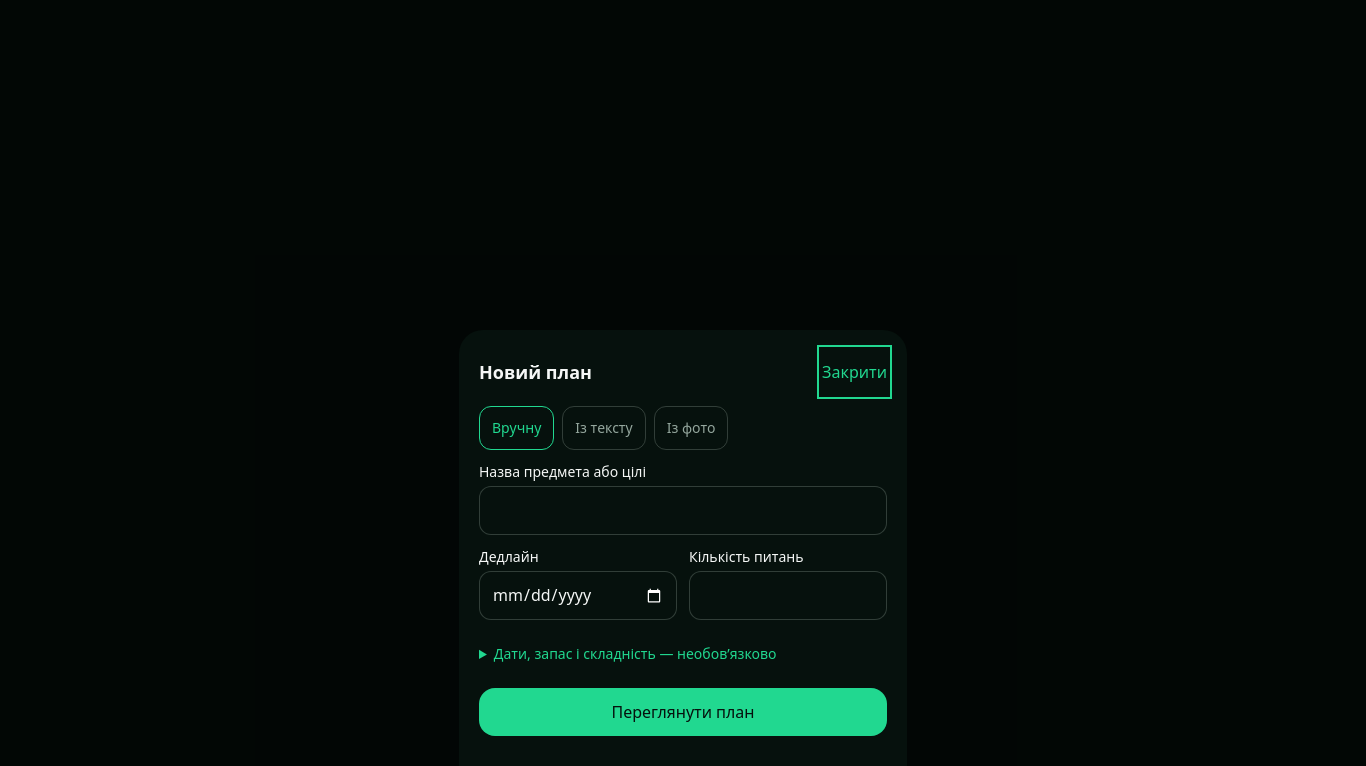
imports text with an explicitly selected year and keeps scheduled dates
The width and height of the screenshot is (1366, 766).
Click the button "Із тексту" at (604, 428), box [562,406,646,450]
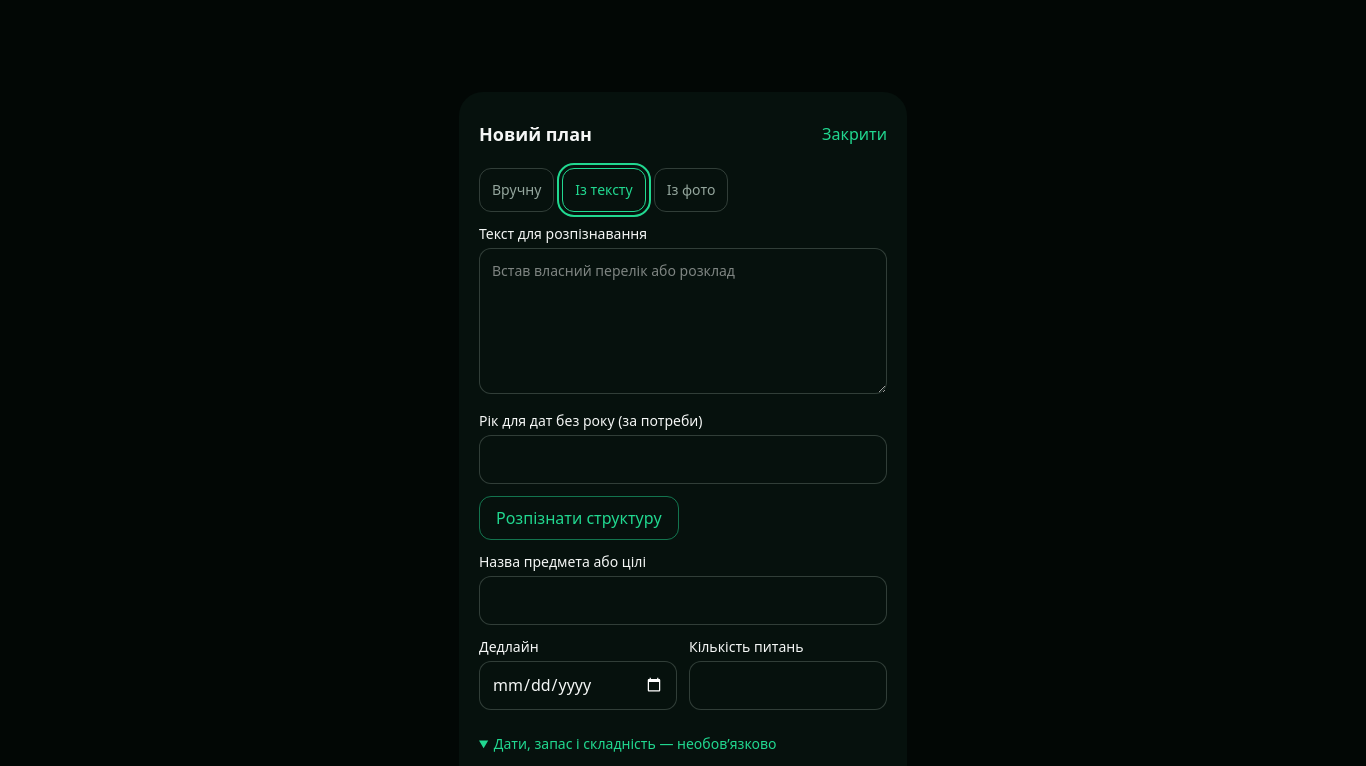
Type "25 жовтня — питання 1–2" into the text box labelled "Текст для розпізнавання" at (683, 321), box [479,248,887,394]
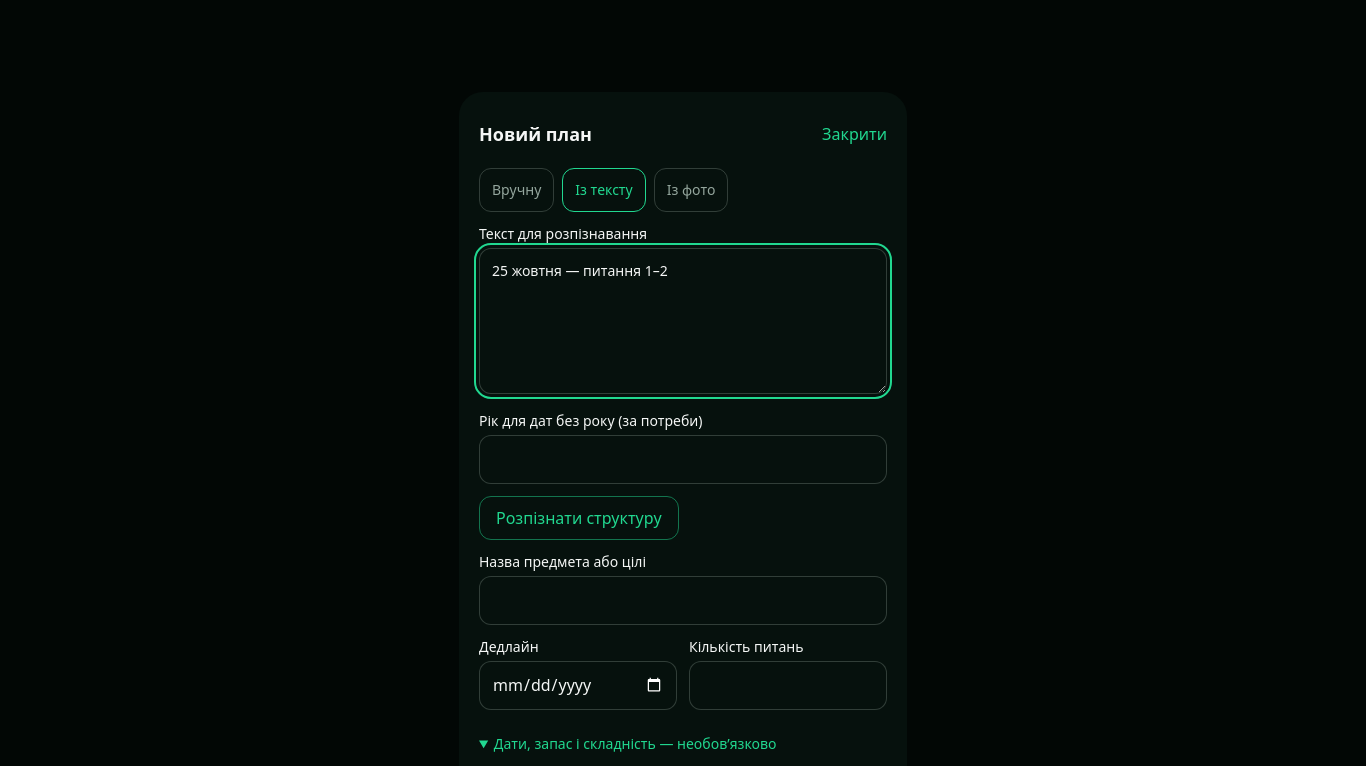
Type "2026" into the number field labelled "Рік для дат без року (за потреби)" at (683, 460), box [479,435,887,484]
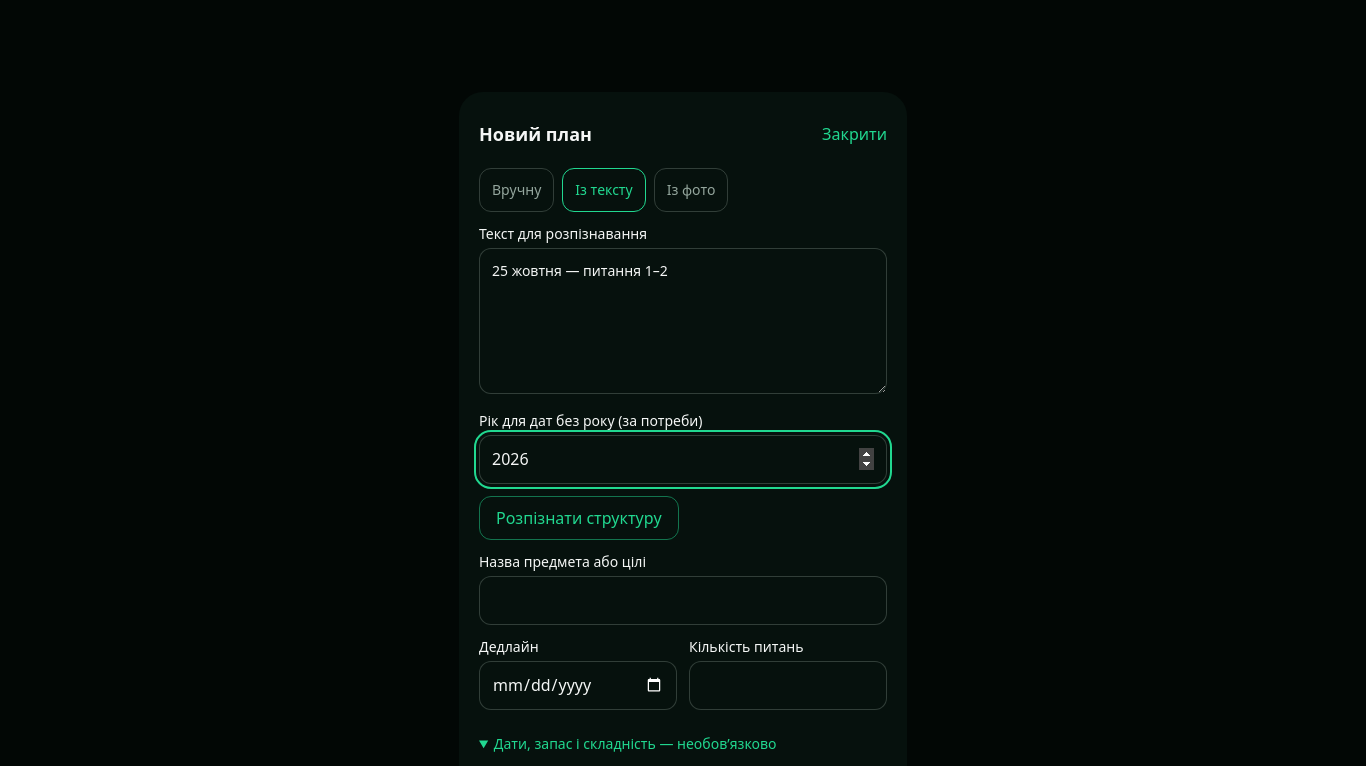
Click the button "Розпізнати структуру" at (579, 518), box [479,496,679,540]
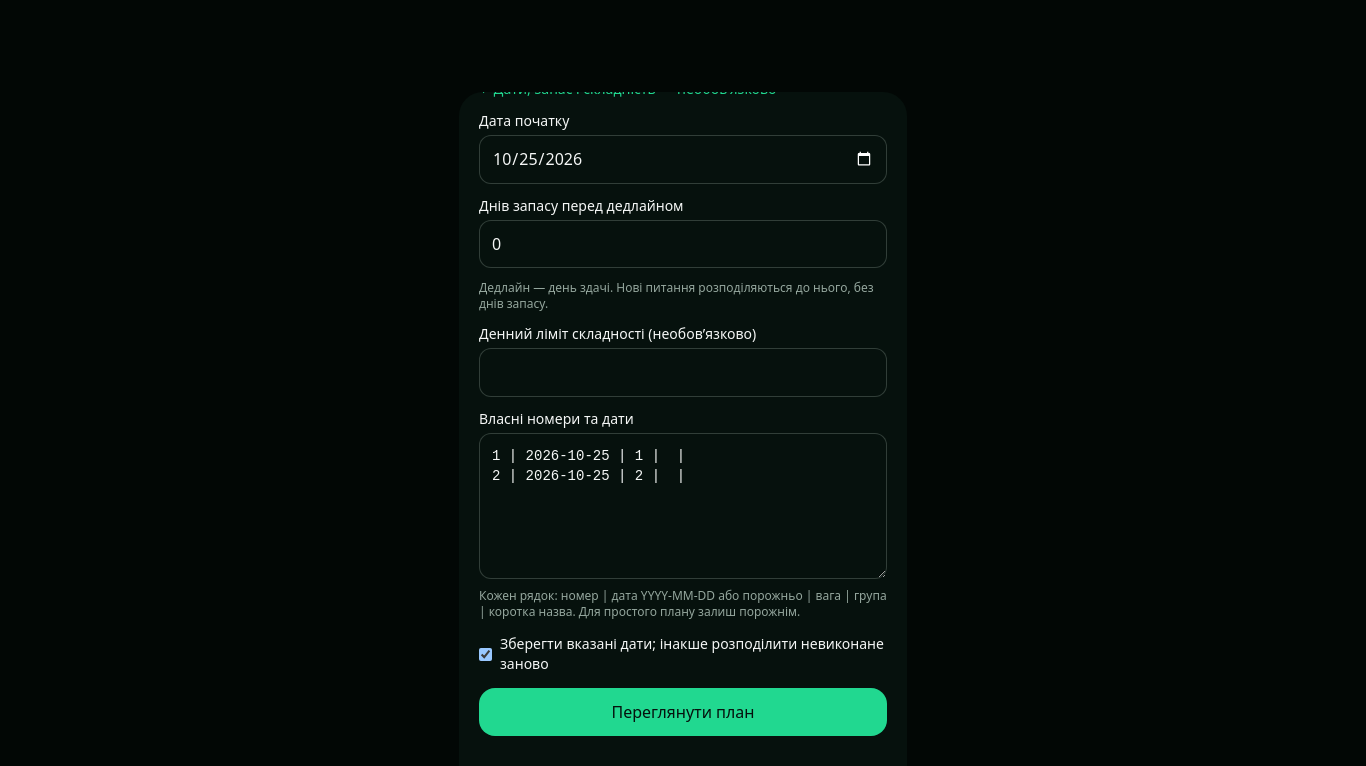
Click the button "Переглянути план" at (683, 712), box [479,688,887,736]
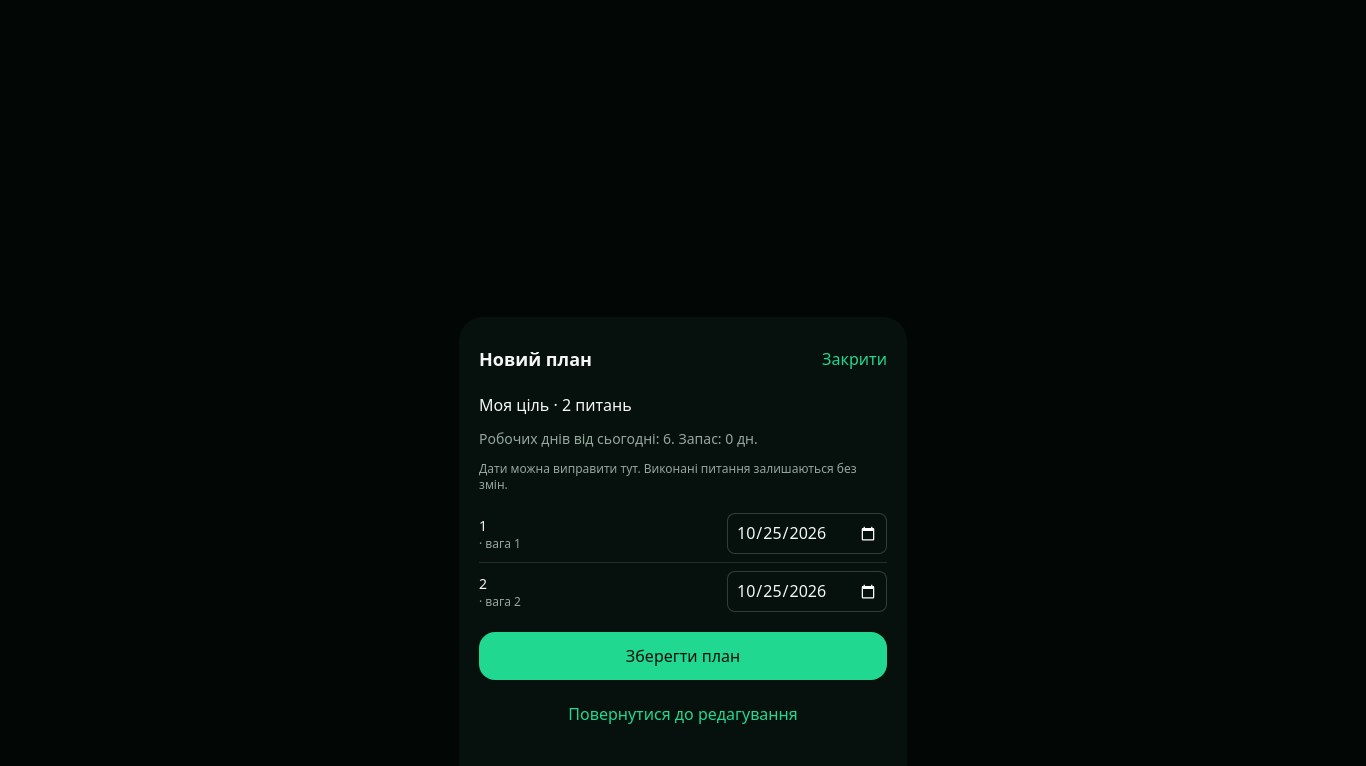
Check: the button "Зберегти план" is shown, box [479,632,887,680]
